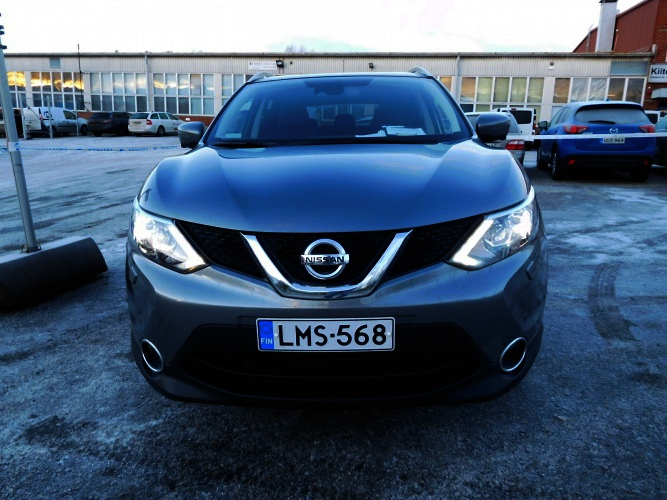license: (251, 318, 395, 355)
